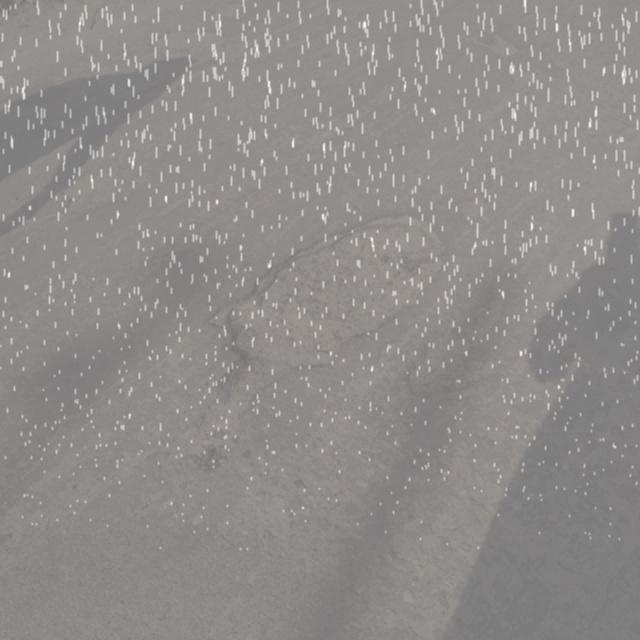Pothole: (317, 332, 562, 640), (194, 199, 438, 369)
